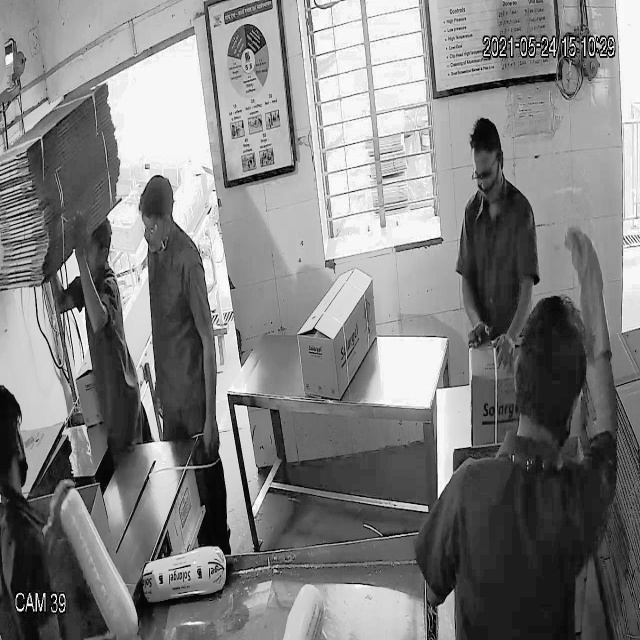Gafas: (138, 212, 172, 238)
